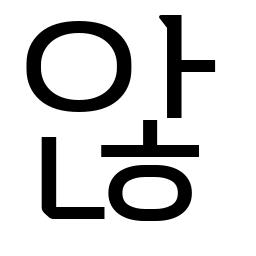Gaji: (149, 44, 204, 89)
